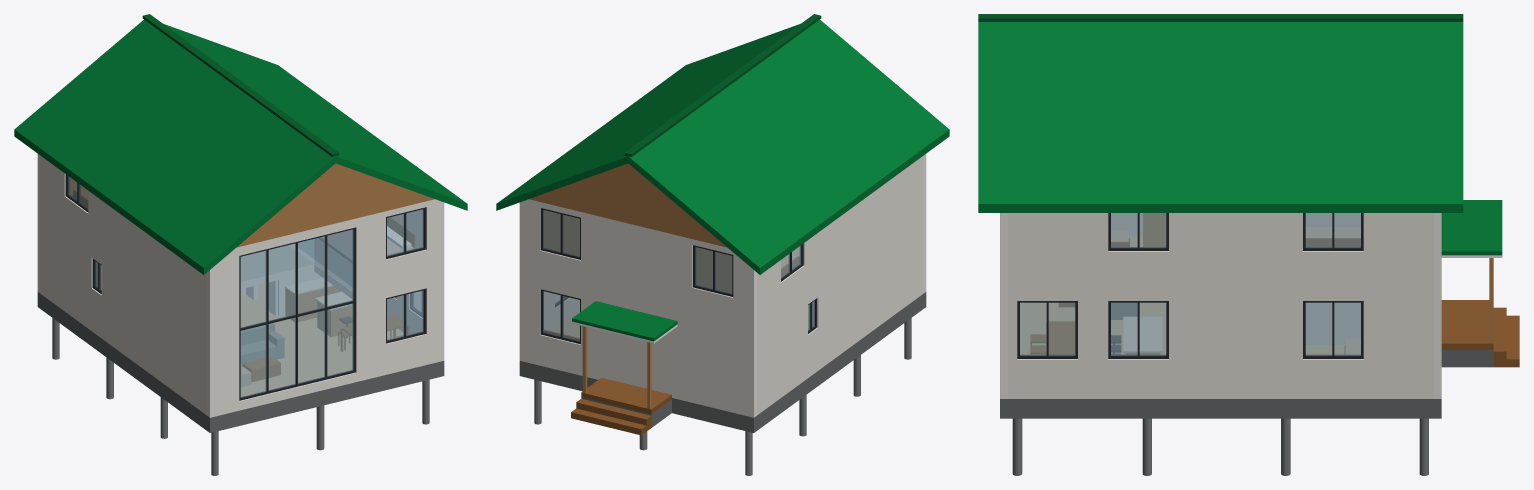
File: dreamhouse_150.glb
3 views of the same model, side by side, from view 1: azimuth 30°, elevation 25°; view 2: azimuth 150°, elevation 25°; view 3: azimuth 270°, elevation 25° (orthographic). The views are drawn at different scales.
Visible parts, largest first — view 1: roof__house, plaster__house, glass__house, plinth__house, wood__house, frame__house, floor__house, inner__house, pile__house, roof_dark__house, wood__furniture, fabric__furniture (+3 smaller); view 2: plaster__house, roof__house, wood__house, plinth__house, glass__house, wood_dark__house, frame__house, inner__house, roof_dark__house, pile__house; view 3: roof__house, plaster__house, glass__house, plinth__house, inner__house, wood_dark__house, roof_dark__house, frame__house, floor__house, pile__house, counter__furniture, wood__house (+2 smaller).
Boxes of the visible parts, x1,y1,x2,y2 form: roof__house: (14,19,467,274); plaster__house: (37,154,444,417); glass__house: (68,176,423,397); plinth__house: (37,292,444,432); wood__house: (70,163,434,247); frame__house: (65,174,426,400); floor__house: (241,264,402,396); inner__house: (38,154,425,417); pile__house: (52,318,429,475); roof_dark__house: (142,14,339,156); wood__furniture: (285,286,351,336); fabric__furniture: (241,323,284,363); plaster__house: (519,154,926,417); roof__house: (496,19,949,341); wood__house: (529,163,731,408); plinth__house: (519,292,926,432); glass__house: (543,210,814,341); wood_dark__house: (544,256,799,435); frame__house: (540,208,816,344); inner__house: (540,154,925,417); roof_dark__house: (624,14,821,156); pile__house: (534,318,911,475); roof__house: (978,22,1502,255); plaster__house: (1000,213,1441,398); glass__house: (1020,213,1360,355); plinth__house: (1000,349,1493,418); inner__house: (1001,213,1440,398); wood_dark__house: (1030,238,1519,367); roof_dark__house: (978,14,1463,21); frame__house: (1017,213,1363,358); floor__house: (1020,237,1345,354); pile__house: (1012,418,1428,475); counter__furniture: (1123,317,1161,352); wood__house: (1143,213,1493,342).
Size of the model in its own units: 9 by 9.99 by 12.5.
